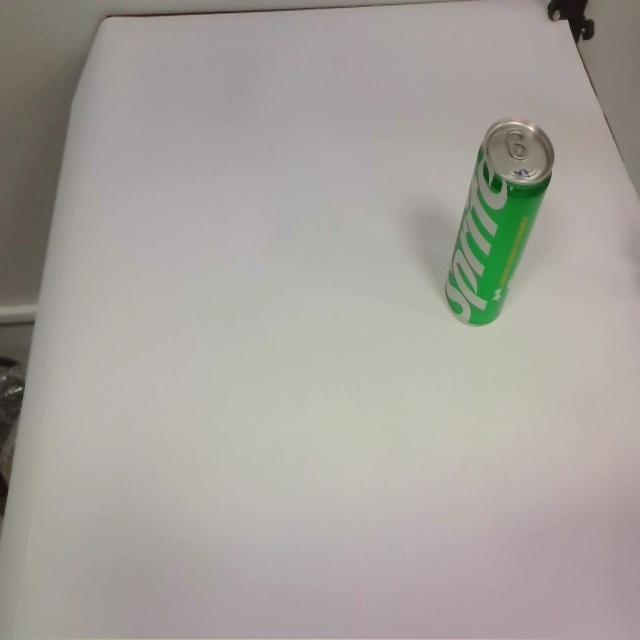debris: (444, 118, 555, 328)
